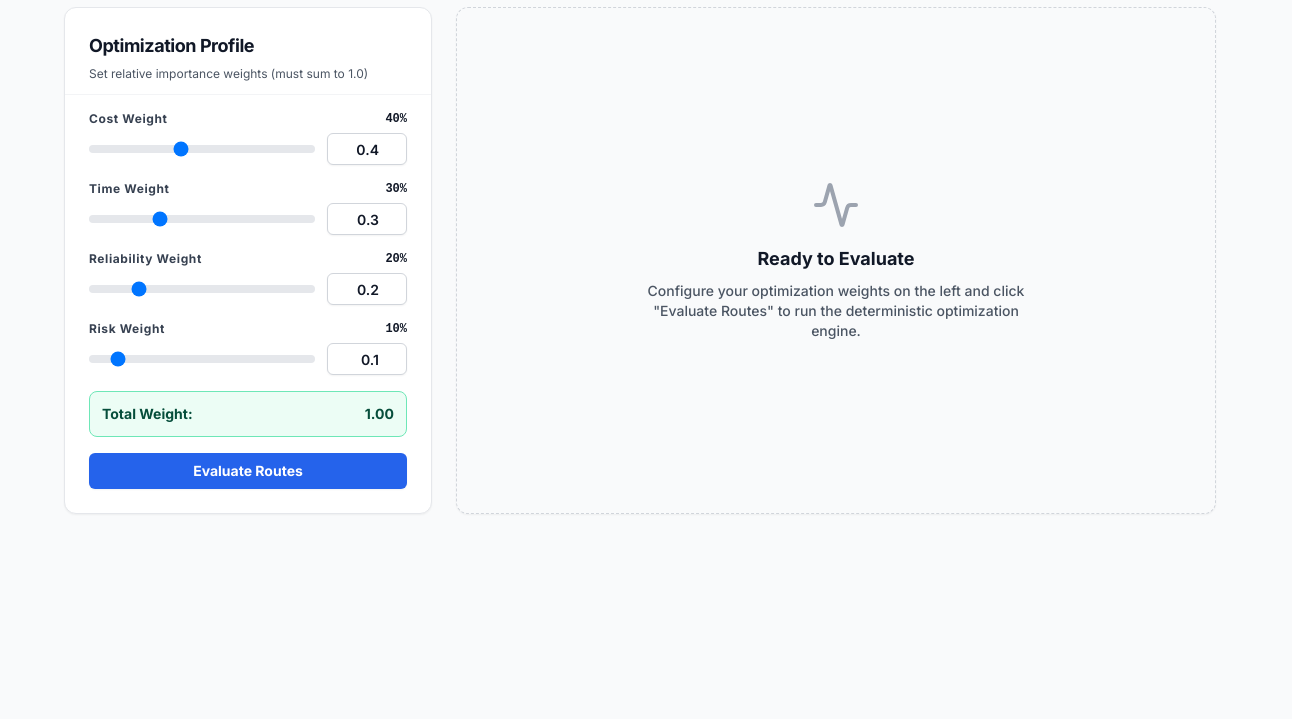
EvaluatePage › handles displaying reliability, risk, and route legs (when expanded)
What coordinates should you click on to do the following:
click the button "Evaluate Routes"
I would click on:
 (248, 471)
Its box is x1=89 y1=453 x2=407 y2=489.
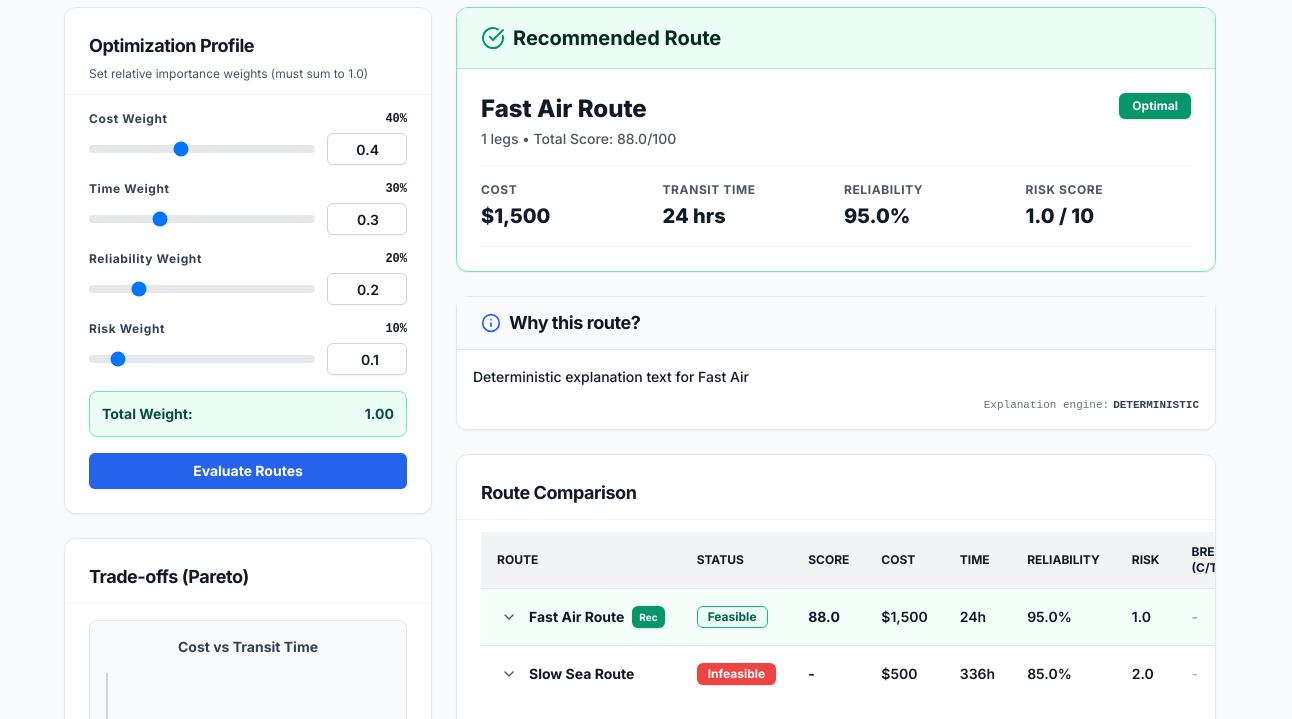
Result: the heading "Fast Air Route" is shown at x1=481 y1=94 x2=647 y2=123
Result: the text "95.0%" is shown at x1=844 y1=204 x2=910 y2=228
Result: the text "1.0" is shown at x1=1116 y1=589 x2=1176 y2=646
What coordinates should you click on to do the following:
click the 1st button named "Toggle Route Legs"
I would click on:
 (509, 617)
Its box is x1=497 y1=605 x2=521 y2=629.
(page scrolled)
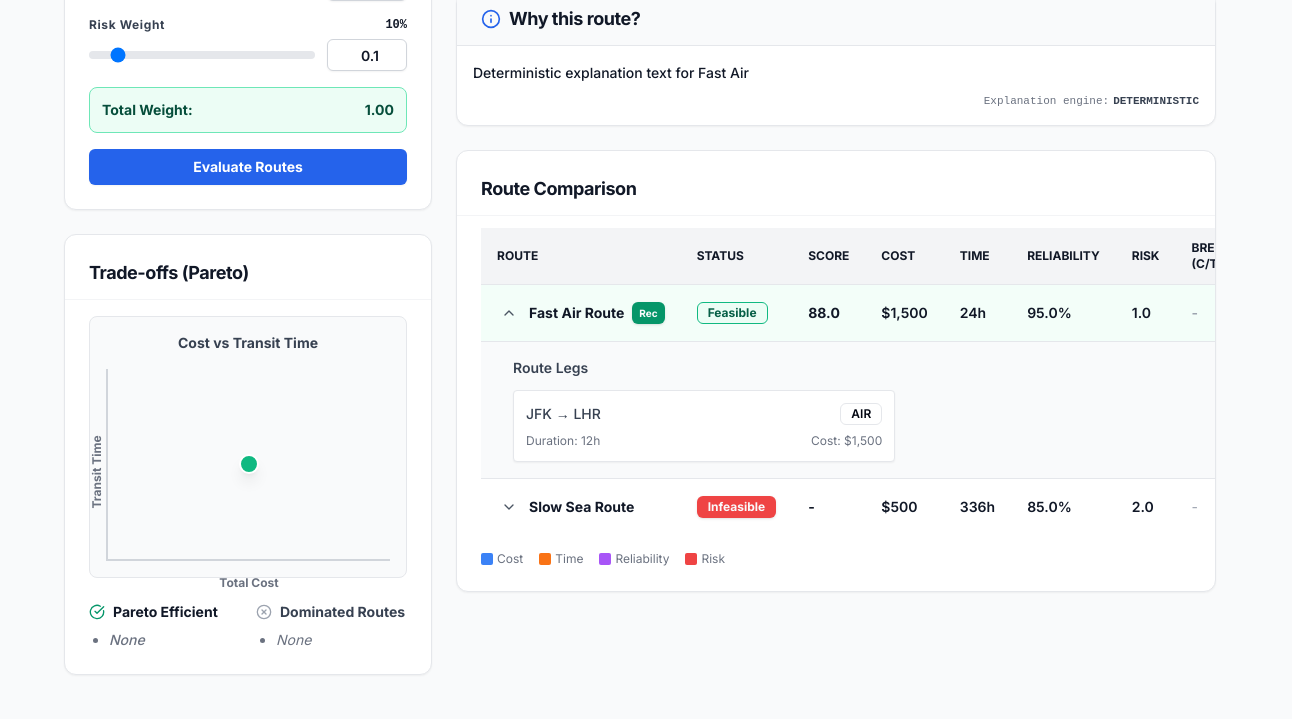
Result: the heading "Route Legs" is shown at x1=513 y1=359 x2=588 y2=376
Result: the text "JFK → LHR" is shown at x1=526 y1=404 x2=601 y2=424
Result: the text "AIR" is shown at x1=840 y1=403 x2=882 y2=425
